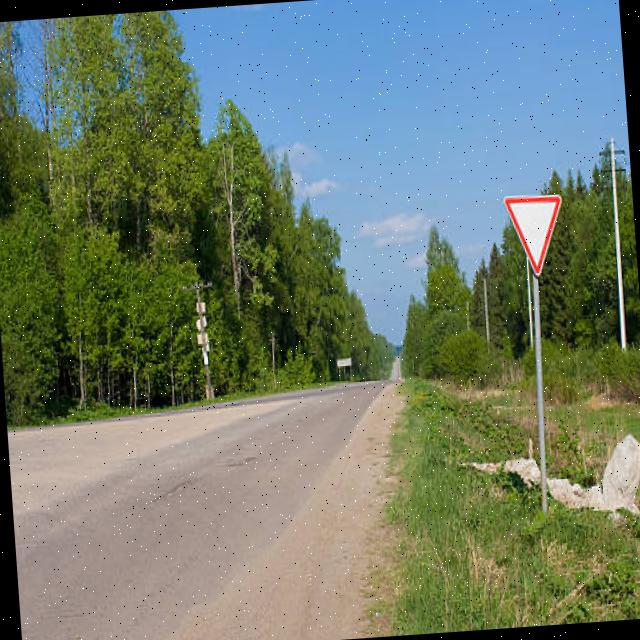give_way: (492, 174, 579, 284)
